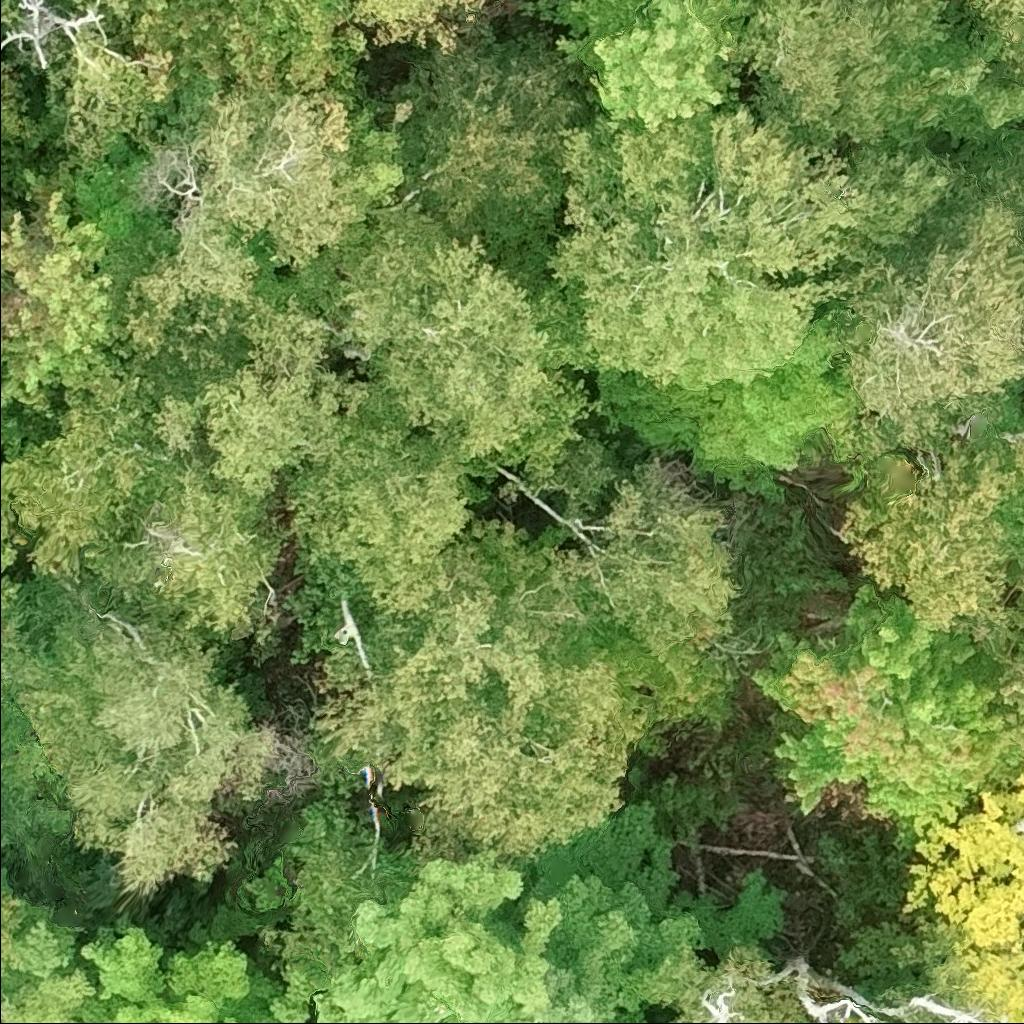crown: (533, 100, 955, 390), (310, 799, 782, 1023), (304, 565, 631, 871), (10, 599, 320, 905), (117, 85, 385, 386), (752, 579, 1023, 818), (834, 127, 1023, 453), (281, 414, 509, 637), (534, 452, 738, 670), (0, 367, 200, 586), (400, 27, 584, 260), (83, 449, 292, 647), (191, 290, 373, 501), (734, 0, 980, 156), (842, 442, 1023, 644), (896, 769, 1023, 1023), (516, 0, 754, 133), (0, 191, 134, 421), (80, 901, 285, 1023), (138, 0, 368, 94), (0, 264, 66, 384), (346, 0, 491, 54), (0, 62, 47, 195), (6, 962, 98, 1023), (949, 0, 1023, 75), (998, 609, 1023, 746), (265, 966, 325, 1023), (1010, 437, 1023, 485), (613, 1009, 649, 1023), (0, 400, 7, 445)
